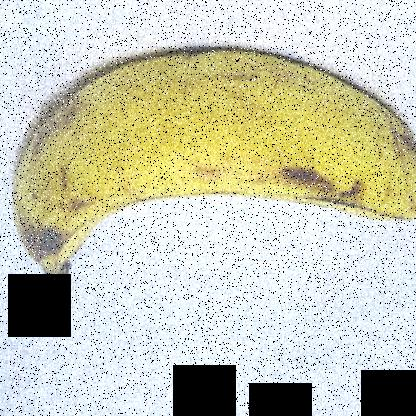ripe: (13, 27, 416, 299)
